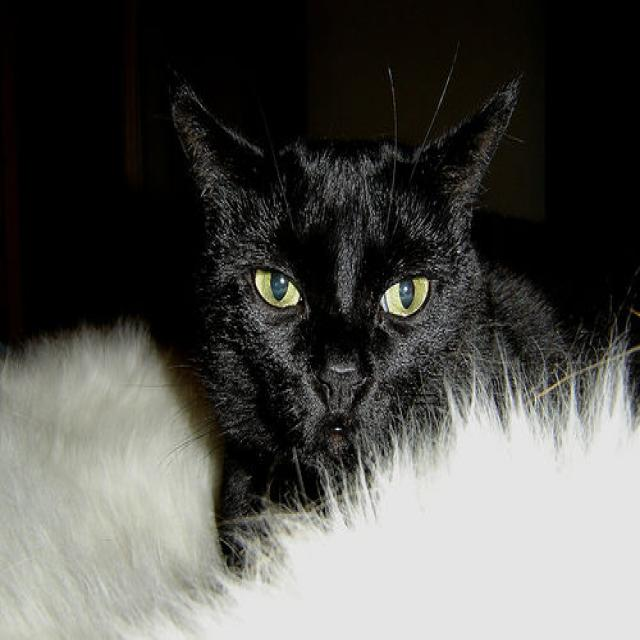left eye: (378, 270, 432, 319)
